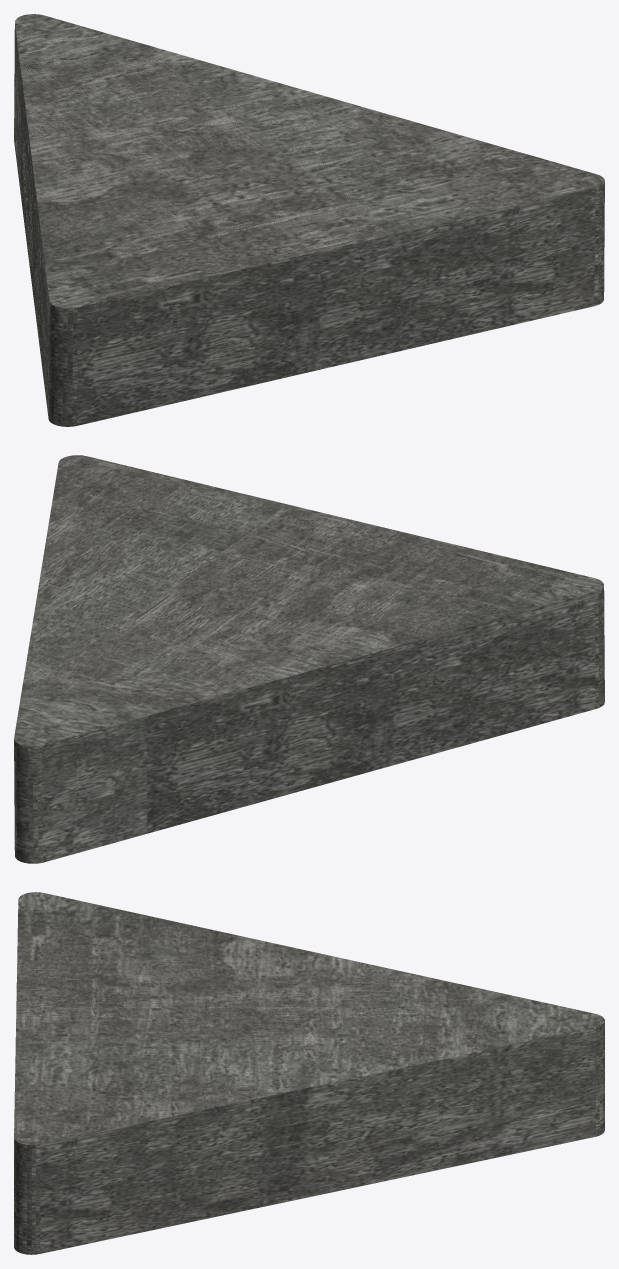
Rendered from triangle_bronze.fbx.
3 views of the same model, one above another, from view 1: azimuth 30°, elevation 25°; view 2: azimuth 150°, elevation 25°; view 3: azimuth 270°, elevation 25° (orthographic). The views are drawn at different scales.
Parts seen in each view (by area): view 1: Model; view 2: Model; view 3: Model.
Boxes of the visible parts, x1,y1,x2,y2 form: Model: (14,14,604,426); Model: (14,455,604,863); Model: (14,892,604,1254).
Size of the model in its own units: 4.86 by 1.04 by 4.87.
